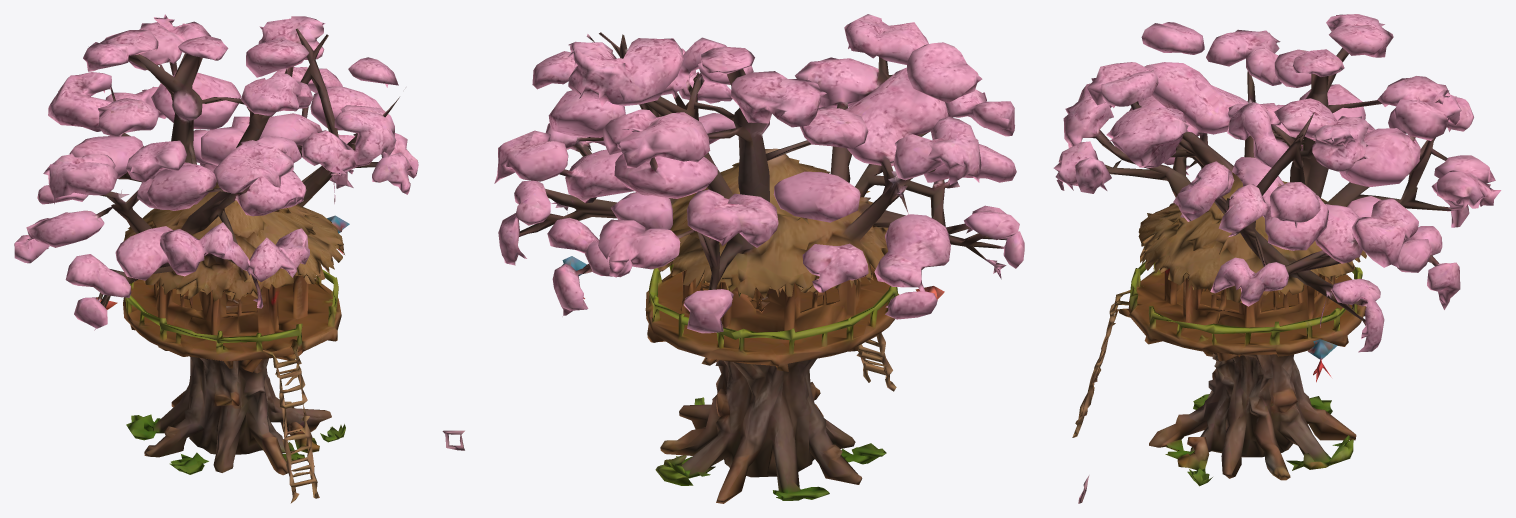
The model's file is h_tree.glb.
3 renders of one model, left to right at view 1: azimuth 30°, elevation 25°; view 2: azimuth 150°, elevation 25°; view 3: azimuth 270°, elevation 25°, orthographic. The views are drawn at different scales.
Visible parts, largest first — view 1: tripo_node_41deb99a-6af3-4d21-8cc4-700c0339b936; view 2: tripo_node_41deb99a-6af3-4d21-8cc4-700c0339b936; view 3: tripo_node_41deb99a-6af3-4d21-8cc4-700c0339b936.
Boxes of the visible parts, x1,y1,x2,y2 form: tripo_node_41deb99a-6af3-4d21-8cc4-700c0339b936: (14, 14, 464, 503); tripo_node_41deb99a-6af3-4d21-8cc4-700c0339b936: (494, 14, 1024, 503); tripo_node_41deb99a-6af3-4d21-8cc4-700c0339b936: (1053, 14, 1501, 503).
Bounding box in the file's own units: 0.9975 × 0.9558 × 0.9897.
Materials: 1 (1 with a texture image).
